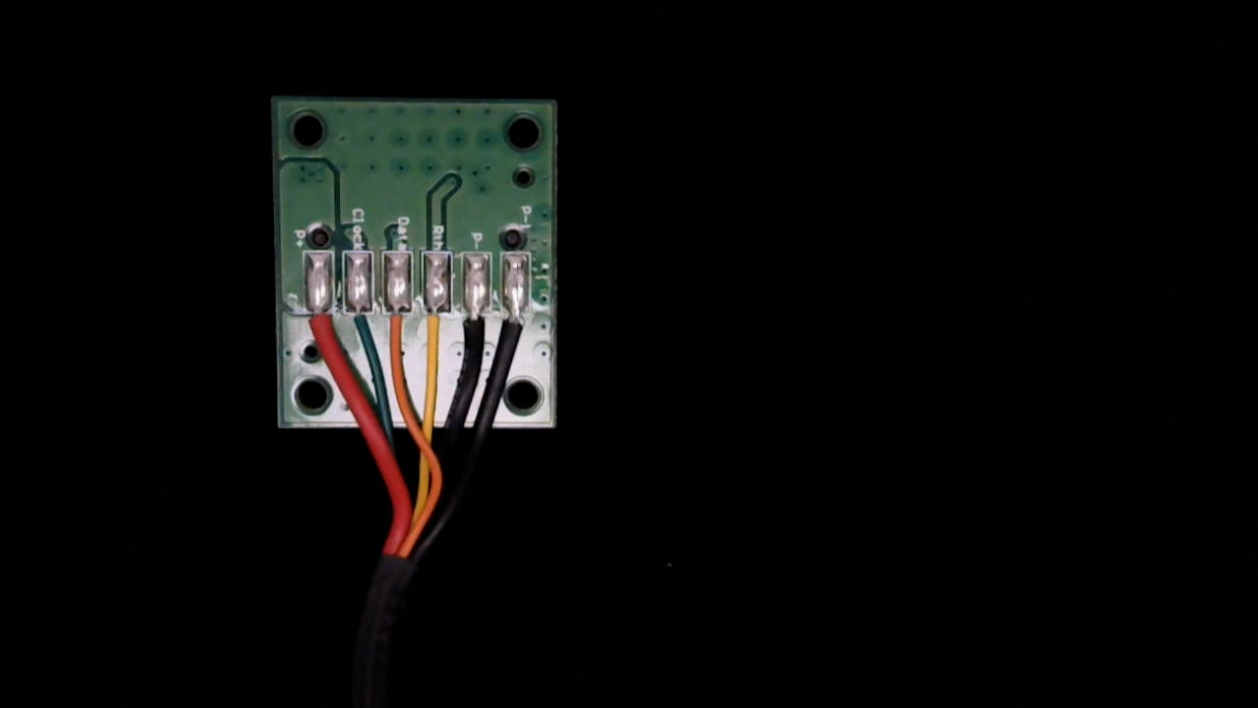Black: (462, 297, 490, 353)
Black1: (501, 298, 530, 354)
Green: (344, 295, 375, 346)
Orange: (382, 296, 415, 348)
Red: (306, 294, 333, 346)
Yellow: (421, 298, 453, 355)
